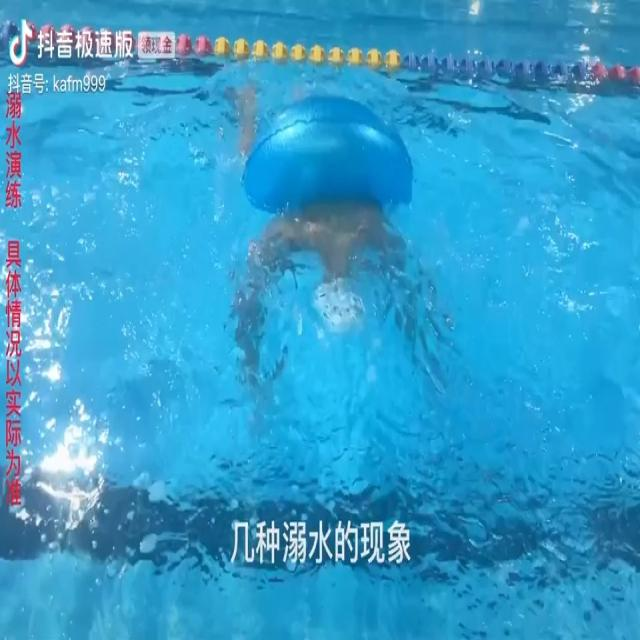Drowning: (231, 79, 429, 389)
